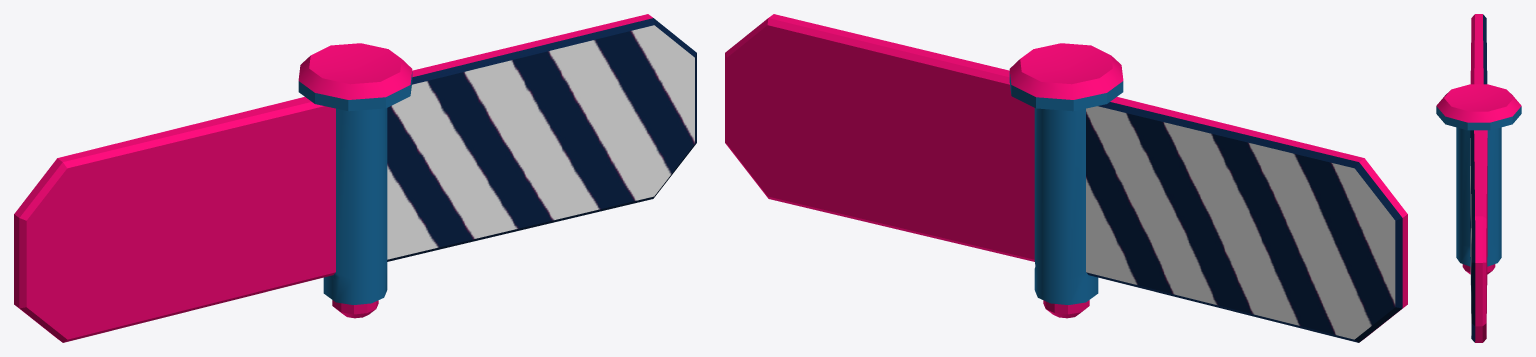
Rendered from OBS0110023.fbx.
3 views of the same model, side by side, from view 1: azimuth 30°, elevation 25°; view 2: azimuth 150°, elevation 25°; view 3: azimuth 270°, elevation 25° (orthographic). The views are drawn at different scales.
Visible parts, largest first — view 1: smOBS0110023; view 2: smOBS0110023; view 3: smOBS0110023.
Part boxes in pixels (x1,y1,x2,y2): smOBS0110023: [14, 14, 696, 342]; smOBS0110023: [725, 14, 1407, 342]; smOBS0110023: [1436, 14, 1521, 342].
Size of the model in its own units: 664 by 233 by 104.
Materials: 1 (1 with a texture image).
